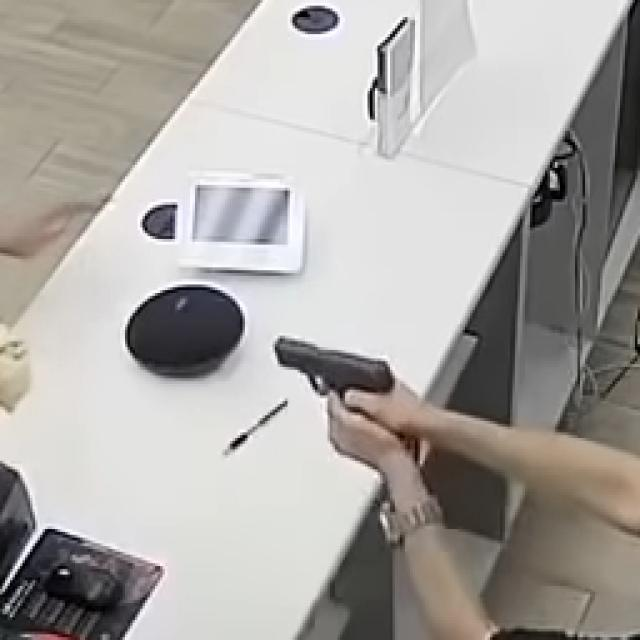FPistol: (268, 328, 398, 411)
